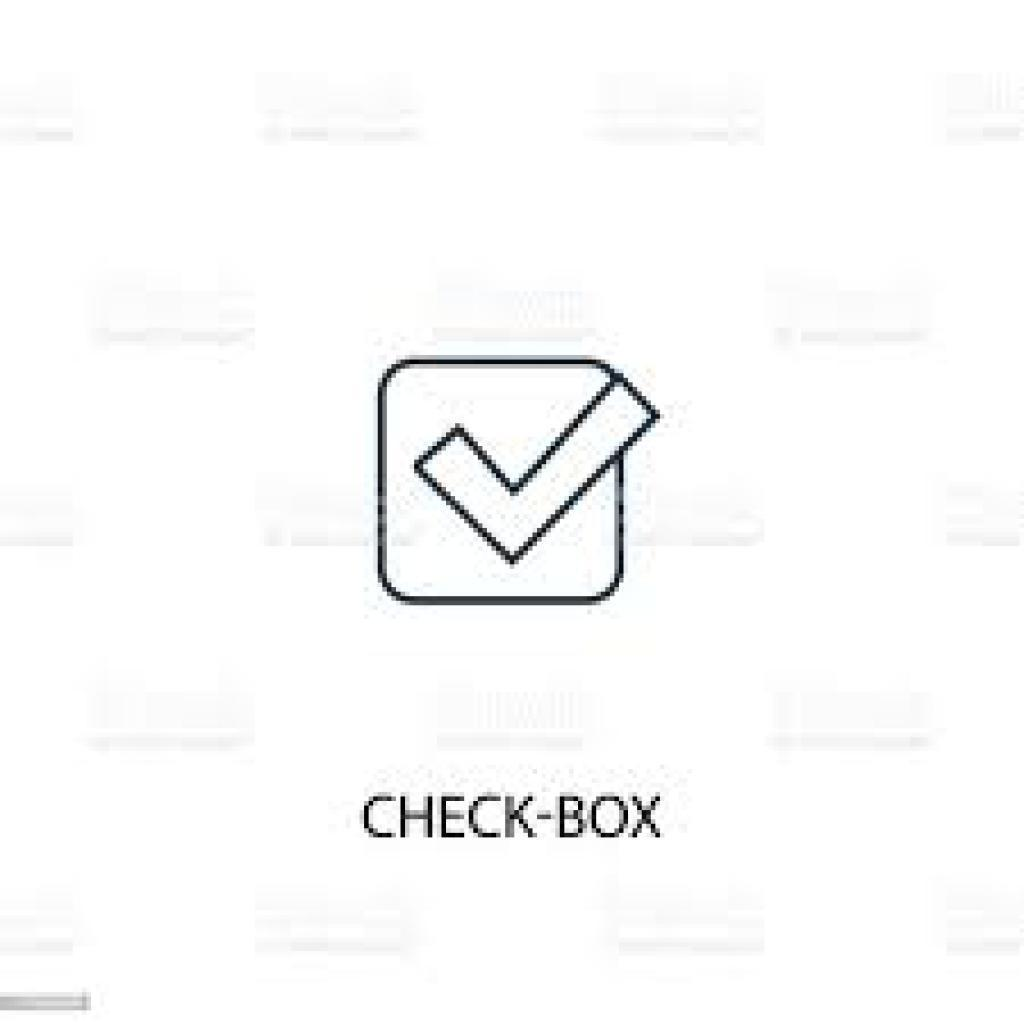checkbox: (376, 361, 631, 605)
